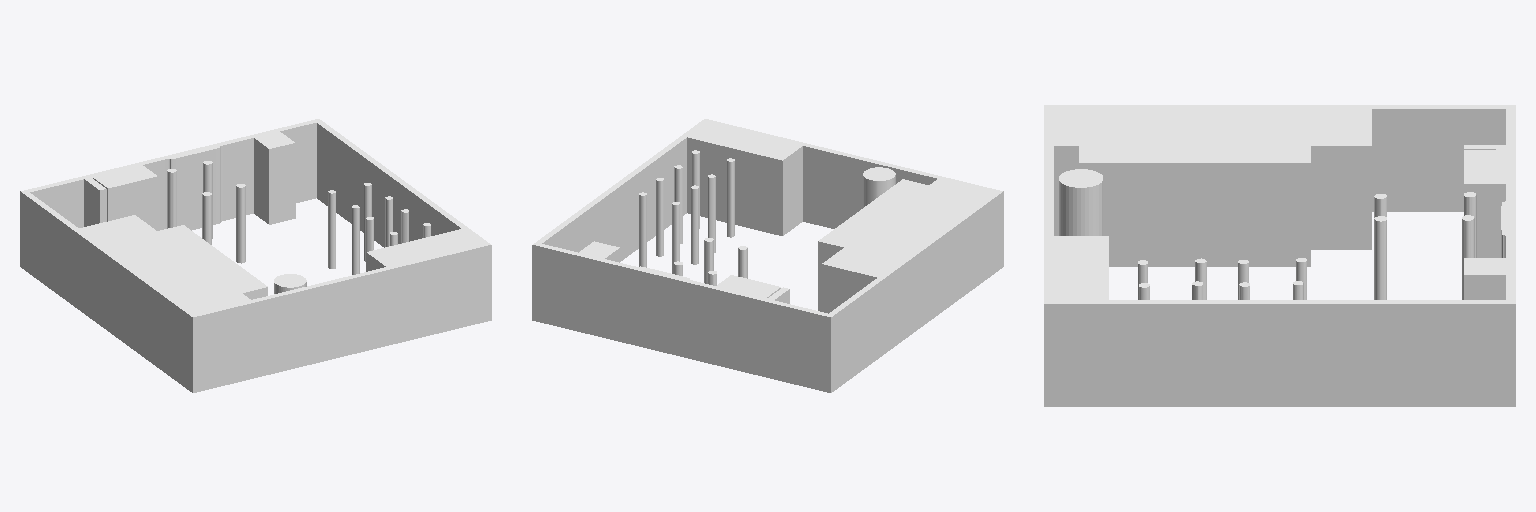
URDF robot description (urdf_robot):
<?xml version="1.0" ?>
<robot name="urdf_robot">
  <link name="baseLink">

    <inertial>
      <origin rpy="0 0 0" xyz="0 0 0"/>
       <mass value="10000.0"/>
       <inertia ixx="1" ixy="0" ixz="0" iyy="1" iyz="0" izz="1"/>
    </inertial>
    <visual>
      <origin rpy="0 0 0" xyz="0 0 0"/>
      <geometry>
				<mesh filename="kitchen.obj" scale="25 25 25"/>      
      </geometry>
      <material name="white">
        <color rgba="1 1 1 1"/>
      </material>
    </visual>
    <collision>
      <origin rpy="0 0 0" xyz="0 0 0"/>
      <geometry>
	 <sphere radius="0."/>
      </geometry>
    </collision>
  </link>
</robot>

--- Render facts (derived) ---
3 views of the same robot in one strip: view 1: azimuth 30°, elevation 25°; view 2: azimuth 150°, elevation 25°; view 3: azimuth 270°, elevation 25° (orthographic).
Robot: urdf_robot — 1 links, 0 joints (none); root link baseLink; default pose: all joints at 0.
Visible links, largest first — view 1: baseLink; view 2: baseLink; view 3: baseLink.
Link boxes in pixels (left/top/right/bottom): baseLink: left=20, top=119, right=491, bottom=392; baseLink: left=532, top=119, right=1003, bottom=392; baseLink: left=1044, top=105, right=1515, bottom=406.
Bounding box of the posed robot: 1.24 × 1.24 × 0.302 m (x, y, z).
1 mesh visuals loaded from 1 distinct referenced files (1 OBJ).